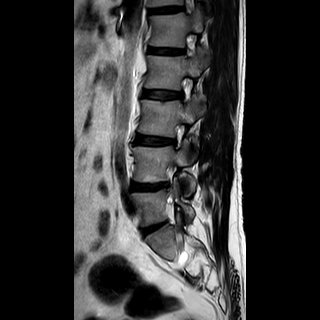LFS0: (176, 25, 204, 63), (173, 68, 197, 111), (168, 114, 190, 154)
